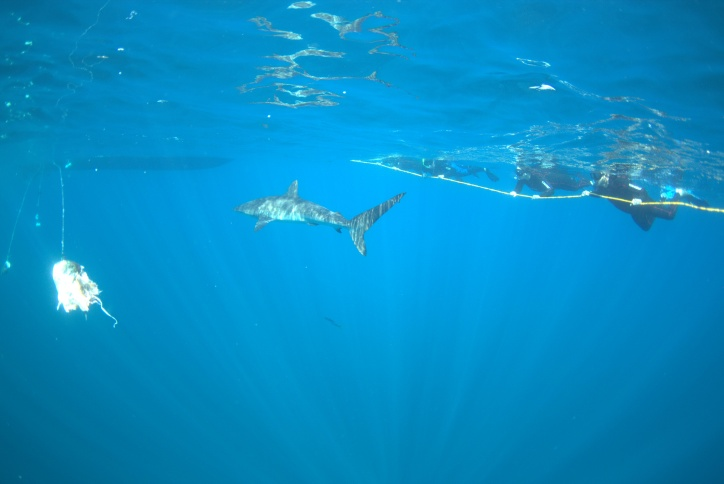Sedoso: (217, 172, 412, 279)
